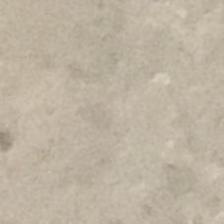Non_Crack: (37, 53, 220, 208)
